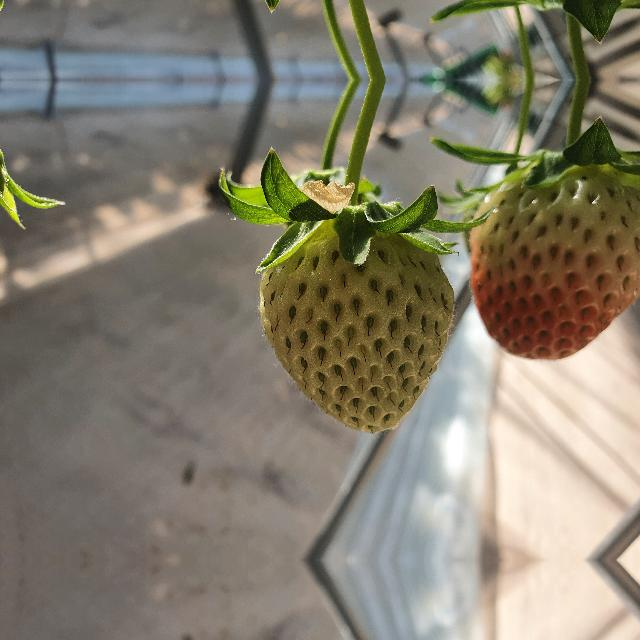Health_25: (259, 223, 453, 433), (471, 154, 639, 362)
